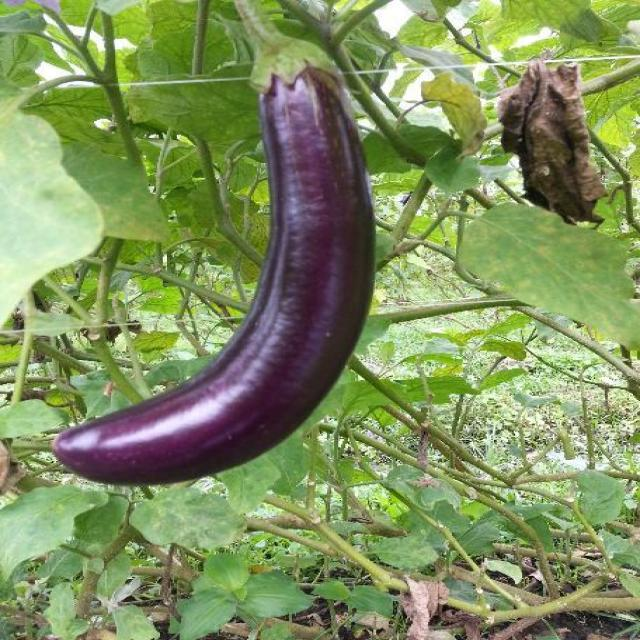eggplant: (51, 34, 378, 488)
